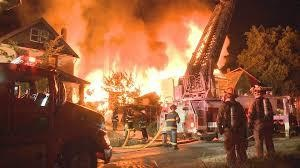fire: (72, 44, 186, 111)
